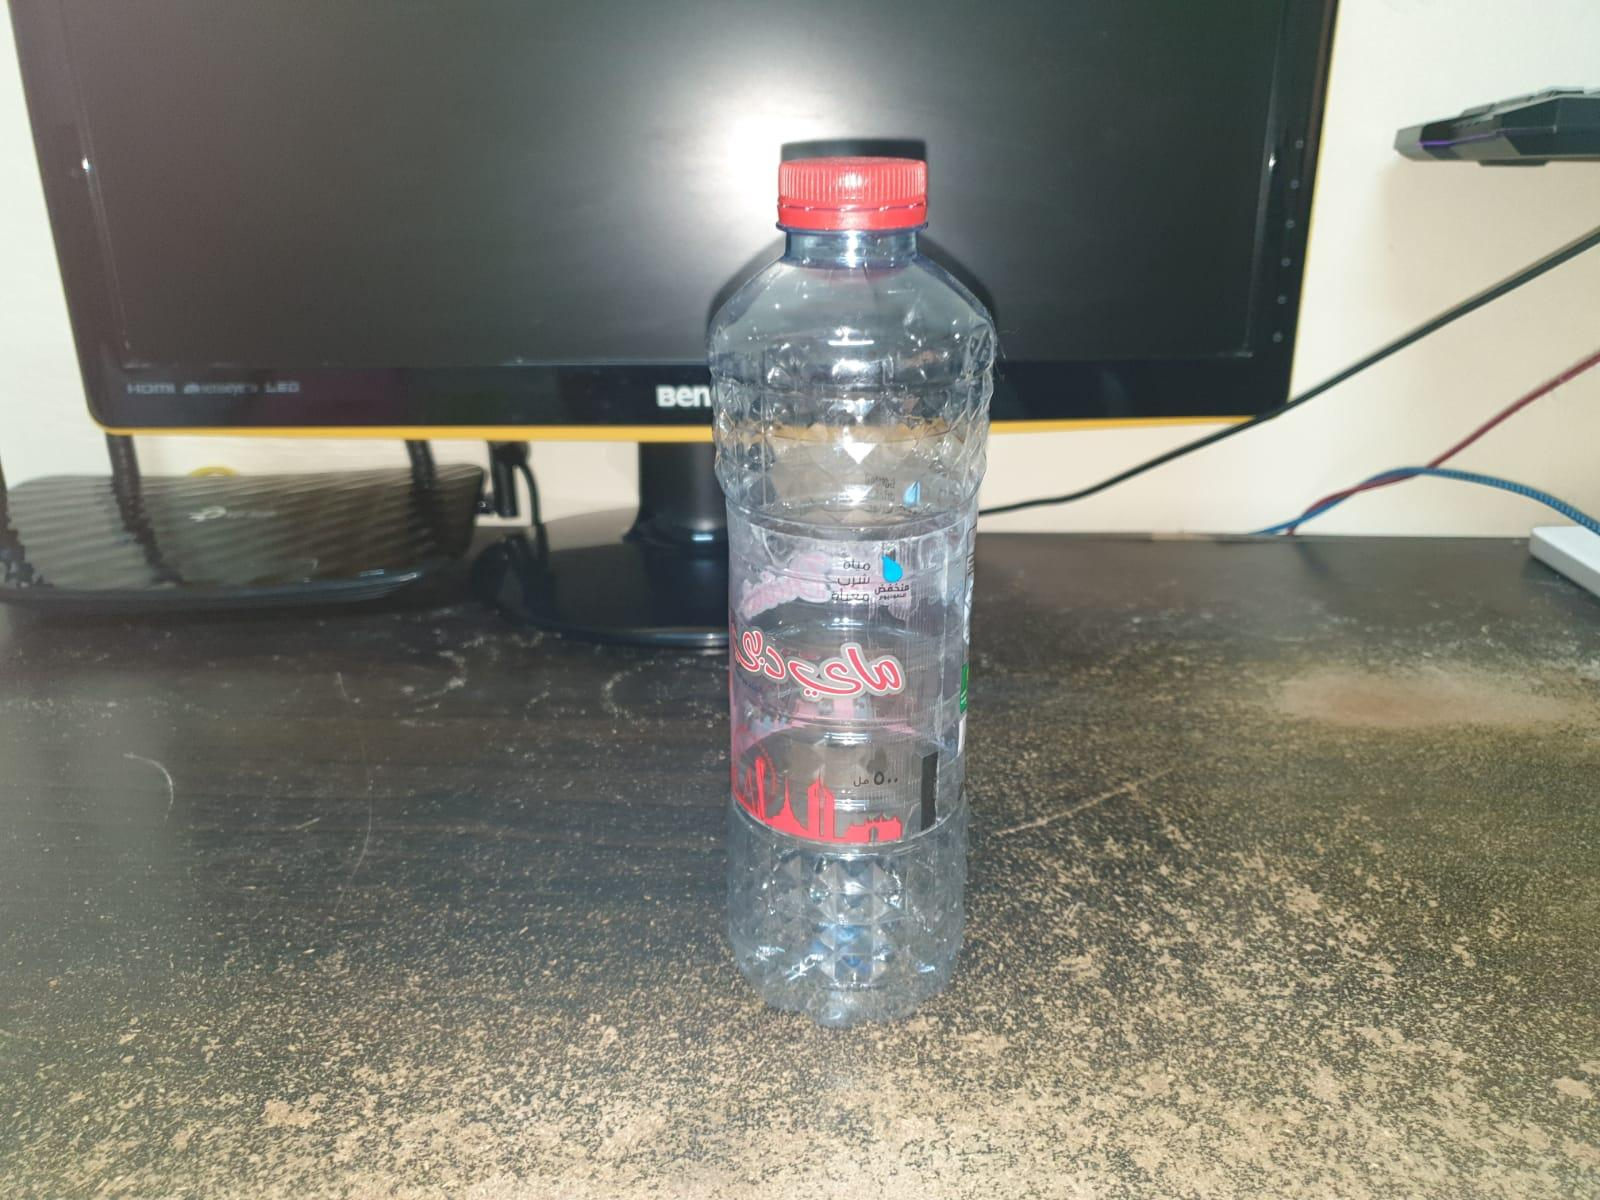bottle: (708, 141, 1008, 1025)
